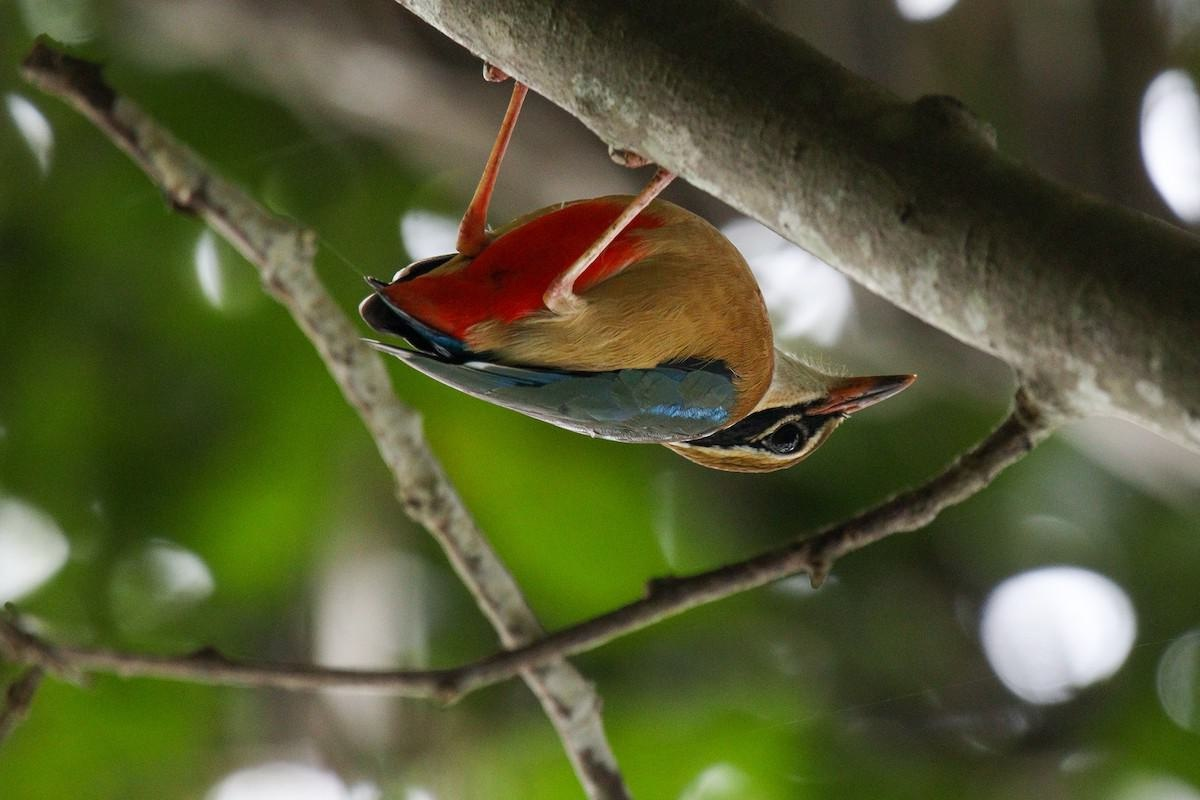pitta: (388, 50, 908, 498)
